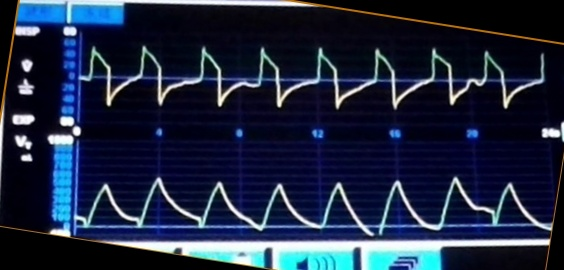Ineffective_effort Flow: (84, 37, 547, 115)
Ineffective_effort Volume: (78, 168, 549, 237)
